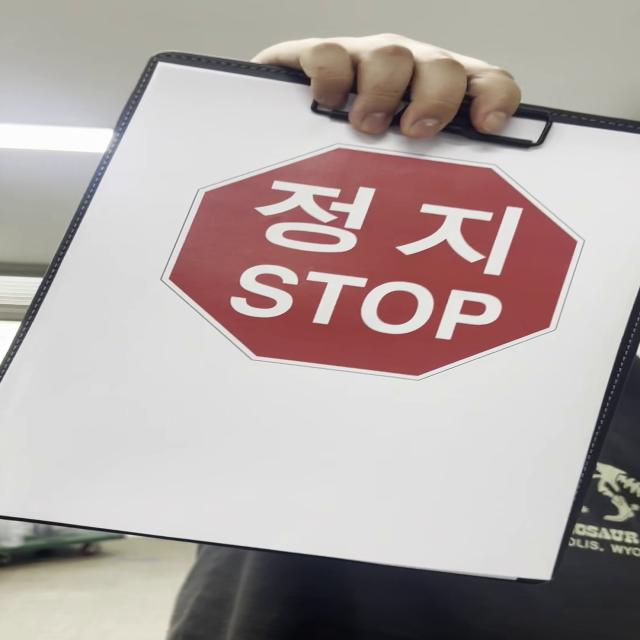stop: (168, 142, 585, 381)
